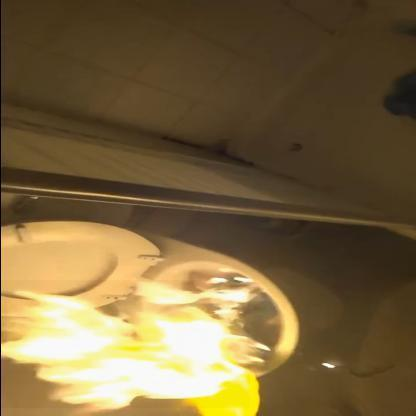Fire: (0, 267, 275, 416)
